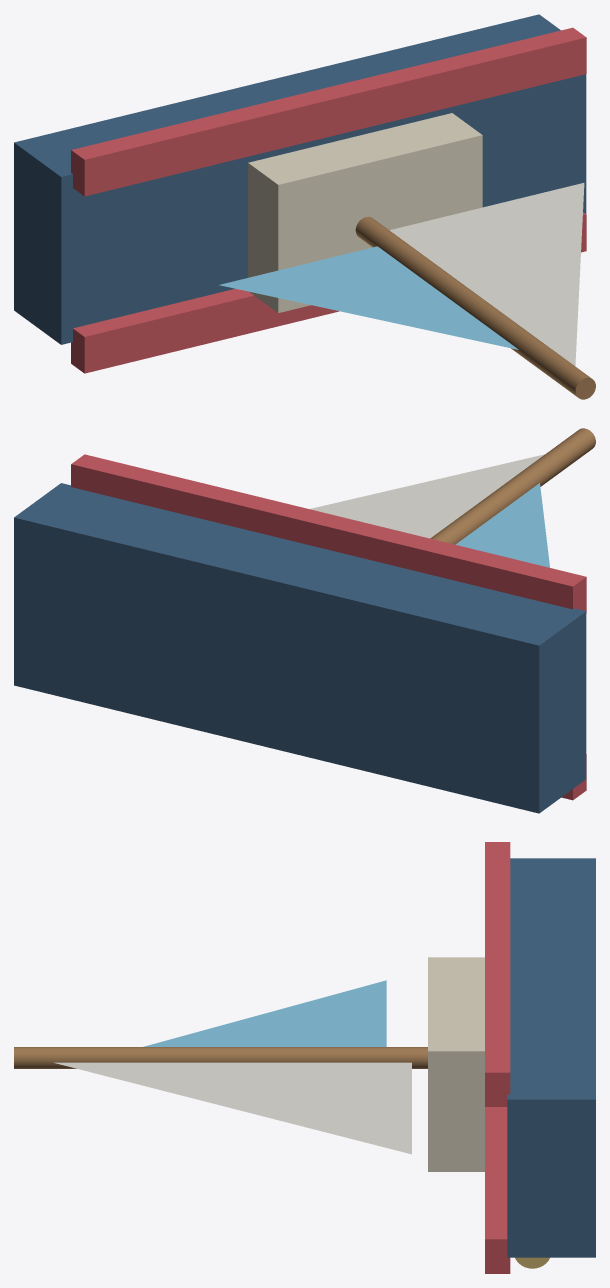
File: boat-glossy-sloop.glb
3 views of the same model, one above another, from view 1: azimuth 30°, elevation 25°; view 2: azimuth 150°, elevation 25°; view 3: azimuth 270°, elevation 25° (orthographic). The views are drawn at different scales.
Visible parts, largest first — view 1: navy_hull, red_trim_back, cream_cabin, cream_main_sail, blue_front_sail, red_trim_front, mast; view 2: navy_hull, red_trim_back, cream_main_sail, mast, blue_front_sail; view 3: navy_hull, cream_main_sail, cream_cabin, blue_front_sail, mast, red_trim_back, red_trim_front.
Part boxes in pixels (x1=…): navy_hull: x1=14, y1=14, x2=586, y2=344; red_trim_back: x1=71, y1=27, x2=586, y2=196; cream_cabin: x1=248, y1=113, x2=482, y2=312; cream_main_sail: x1=389, y1=183, x2=584, y2=365; blue_front_sail: x1=219, y1=246, x2=518, y2=349; red_trim_front: x1=71, y1=212, x2=586, y2=373; mast: x1=355, y1=216, x2=595, y2=399; navy_hull: x1=14, y1=483, x2=586, y2=813; red_trim_back: x1=71, y1=454, x2=586, y2=612; cream_main_sail: x1=309, y1=454, x2=544, y2=538; mast: x1=430, y1=428, x2=595, y2=544; blue_front_sail: x1=455, y1=483, x2=549, y2=567; navy_hull: x1=507, y1=858, x2=595, y2=1257; cream_main_sail: x1=54, y1=1062, x2=411, y2=1154; cream_cabin: x1=428, y1=957, x2=484, y2=1171; blue_front_sail: x1=143, y1=980, x2=386, y2=1046; mast: x1=14, y1=1047, x2=427, y2=1068; red_trim_back: x1=485, y1=842, x2=510, y2=1106; red_trim_front: x1=485, y1=1107, x2=510, y2=1273.
Bounding box in the file's own units: 1.8 × 0.71 × 1.83.
